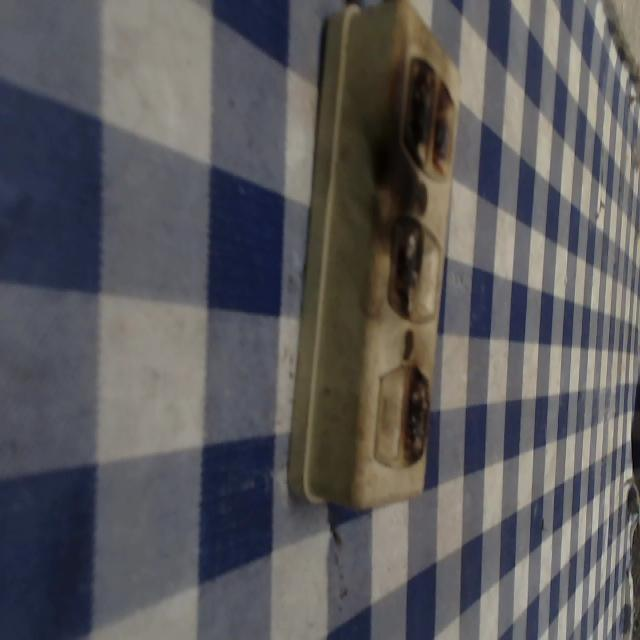-: (399, 42, 455, 182), (385, 205, 423, 318), (399, 361, 430, 464)
